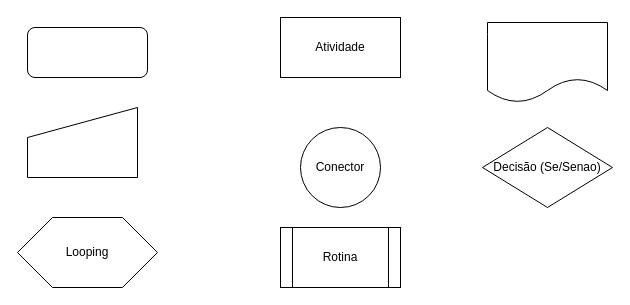
This 630x305 diagram has some shape labels left out. Here are the shapes that lost their labels. From the top down, the centre of each, then its label:
At pixel 87 52: "Início".
At pixel 547 62: "Saída".
At pixel 82 142: "Entrada".
